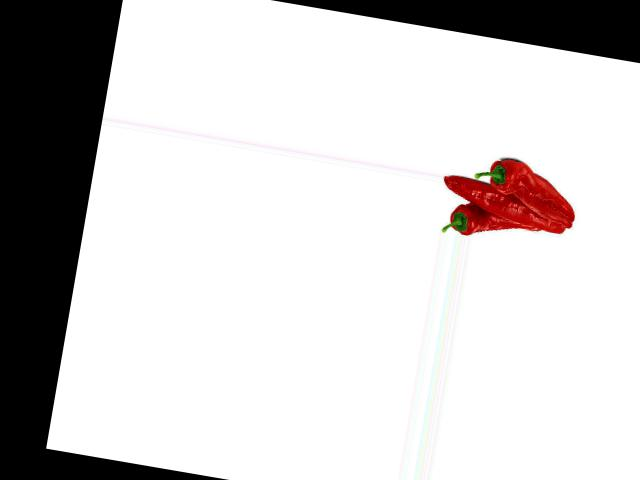bell_pepper: (468, 150, 584, 216)
